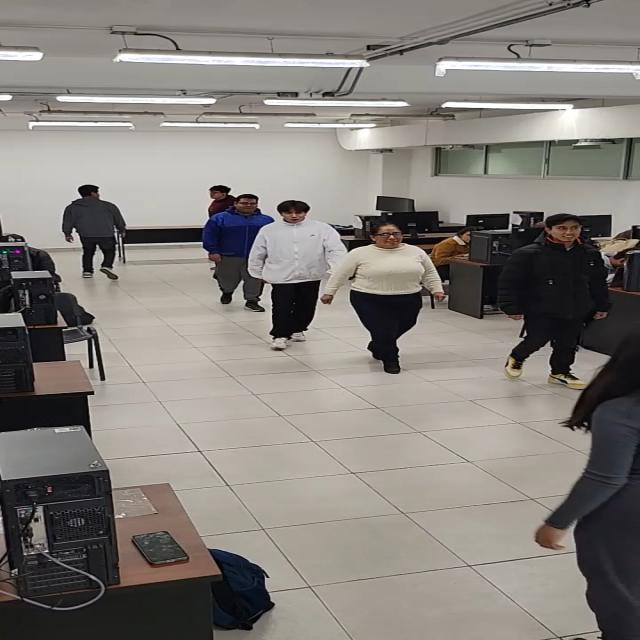Persona: (512, 213, 598, 386), (340, 221, 428, 368), (255, 201, 332, 332), (203, 193, 266, 299), (61, 182, 126, 281), (198, 179, 234, 210)
